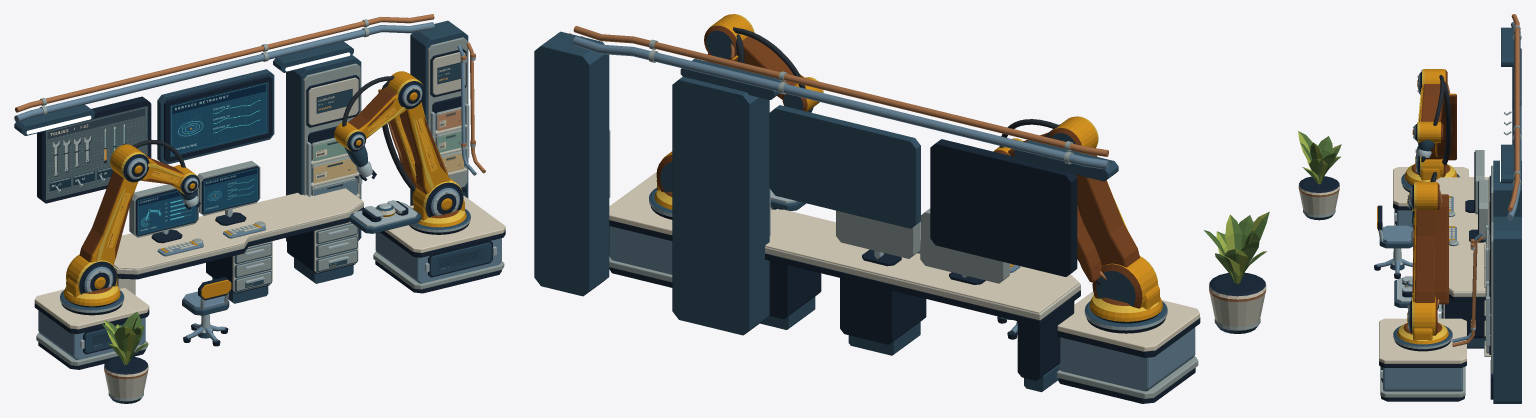
The model's file is factory-workcell.glb.
3 views of the same model, side by side, from view 1: azimuth 30°, elevation 25°; view 2: azimuth 150°, elevation 25°; view 3: azimuth 270°, elevation 25° (orthographic). The views are drawn at different scales.
Parts seen in each view (by area): view 1: FactoryWorkcell Finish, RobotTurret Finish, FixtureHead Finish, FactoryInstrumentGlass, OperatorGlass; view 2: FactoryWorkcell Finish, FixtureHead Finish, RobotTurret Finish; view 3: FactoryWorkcell Finish, RobotTurret Finish, FixtureHead Finish.
Boxes of the visible parts, box(x1,y1,x2,y2) form: FactoryWorkcell Finish: box(14, 14, 505, 403); RobotTurret Finish: box(334, 71, 466, 227); FixtureHead Finish: box(63, 139, 200, 307); FactoryInstrumentGlass: box(170, 81, 268, 157); OperatorGlass: box(137, 190, 196, 235); FactoryWorkcell Finish: box(534, 26, 1269, 403); FixtureHead Finish: box(993, 116, 1162, 323); RobotTurret Finish: box(654, 14, 823, 209); FactoryWorkcell Finish: box(1298, 14, 1521, 403); RobotTurret Finish: box(1397, 172, 1448, 344); FixtureHead Finish: box(1404, 69, 1457, 185).
Bounding box in the file's own units: 6.12 × 2.77 × 2.81.
Materials: 6 (3 with a texture image).
